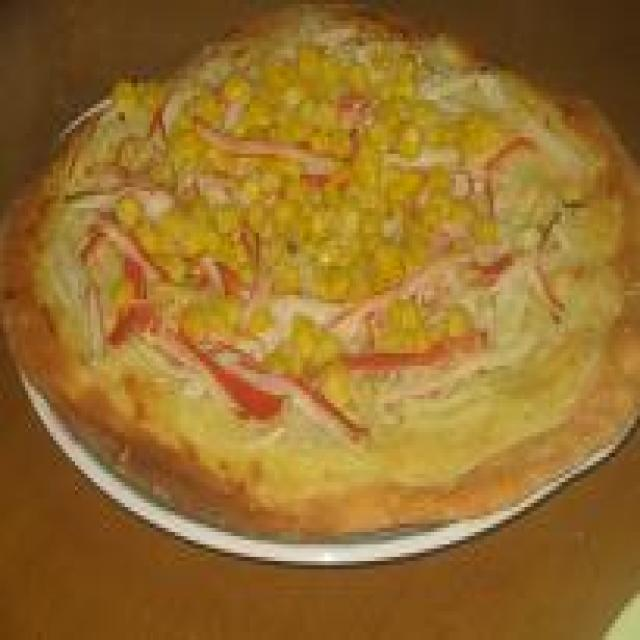汉堡快餐: (0, 0, 640, 544)
